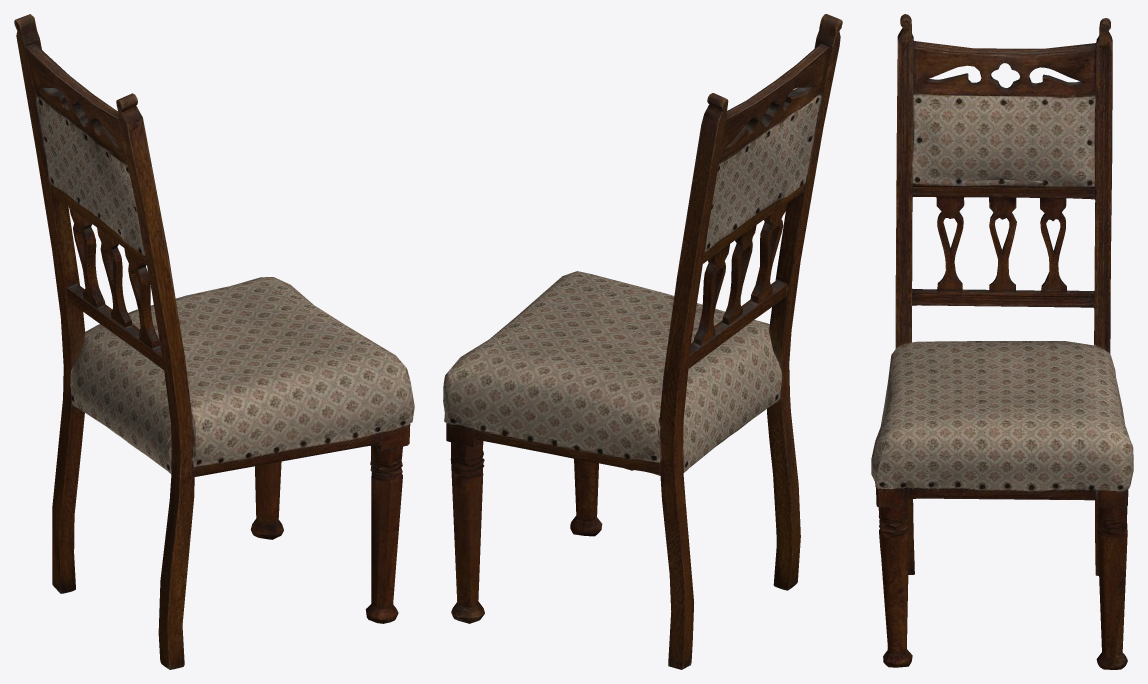
Rendered from chair-wooden-a.glb.
3 renders of one model, left to right at view 1: azimuth 30°, elevation 25°; view 2: azimuth 150°, elevation 25°; view 3: azimuth 270°, elevation 25°, orthographic. The views are drawn at different scales.
Parts seen in each view (by area): view 1: chair-wooden-a; view 2: chair-wooden-a; view 3: chair-wooden-a.
Part boxes in pixels (x1,y1,x2,y2): chair-wooden-a: (14, 14, 414, 669); chair-wooden-a: (443, 14, 842, 669); chair-wooden-a: (871, 14, 1133, 669).
Bounding box in the file's own units: 0.5513 × 1.08 × 0.4789.
Materials: 1 (1 with a texture image).
